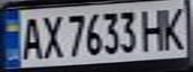3: (118, 7, 142, 55), (100, 8, 121, 55)
6: (84, 9, 106, 56)
7: (63, 10, 84, 57)
A: (15, 14, 45, 61)
H: (136, 4, 172, 52)
K: (157, 2, 193, 51)
X: (39, 11, 63, 60)
